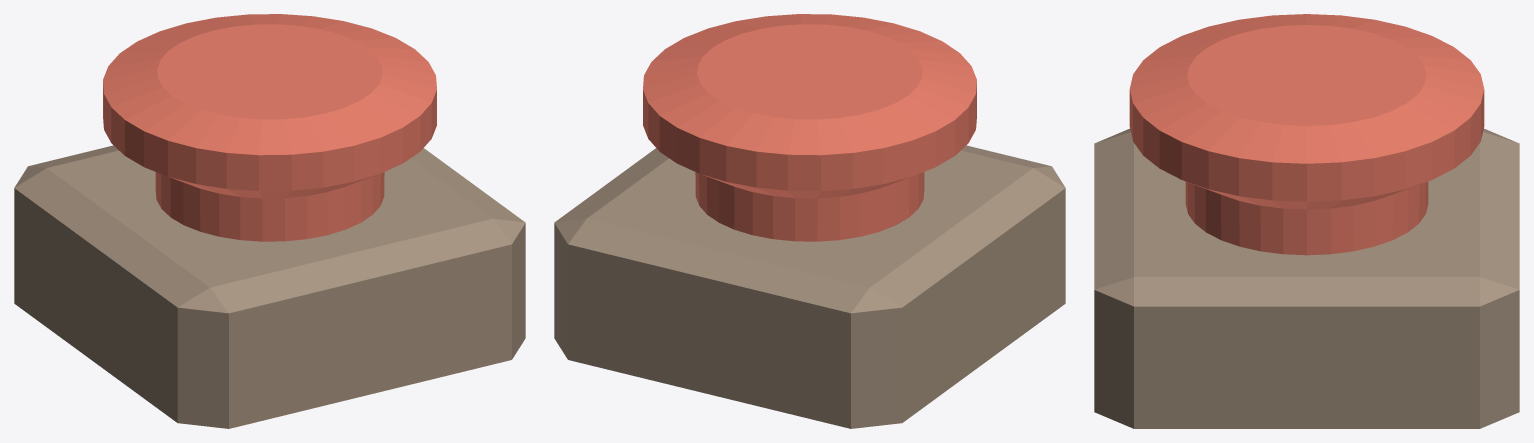
File: big_button.glb
3 views of the same model, side by side, from view 1: azimuth 30°, elevation 25°; view 2: azimuth 150°, elevation 25°; view 3: azimuth 270°, elevation 25° (orthographic). The views are drawn at different scales.
Visible parts, largest first — view 1: Cube, Cylinder; view 2: Cube, Cylinder; view 3: Cube, Cylinder.
Part boxes in pixels (x1,y1,x2,y2): Cube: [14, 145, 525, 428]; Cylinder: [103, 14, 436, 241]; Cube: [554, 145, 1065, 428]; Cylinder: [643, 14, 976, 241]; Cube: [1094, 128, 1519, 428]; Cylinder: [1129, 14, 1484, 255].
Bounding box in the file's own units: 0.2 × 0.1367 × 0.2.
